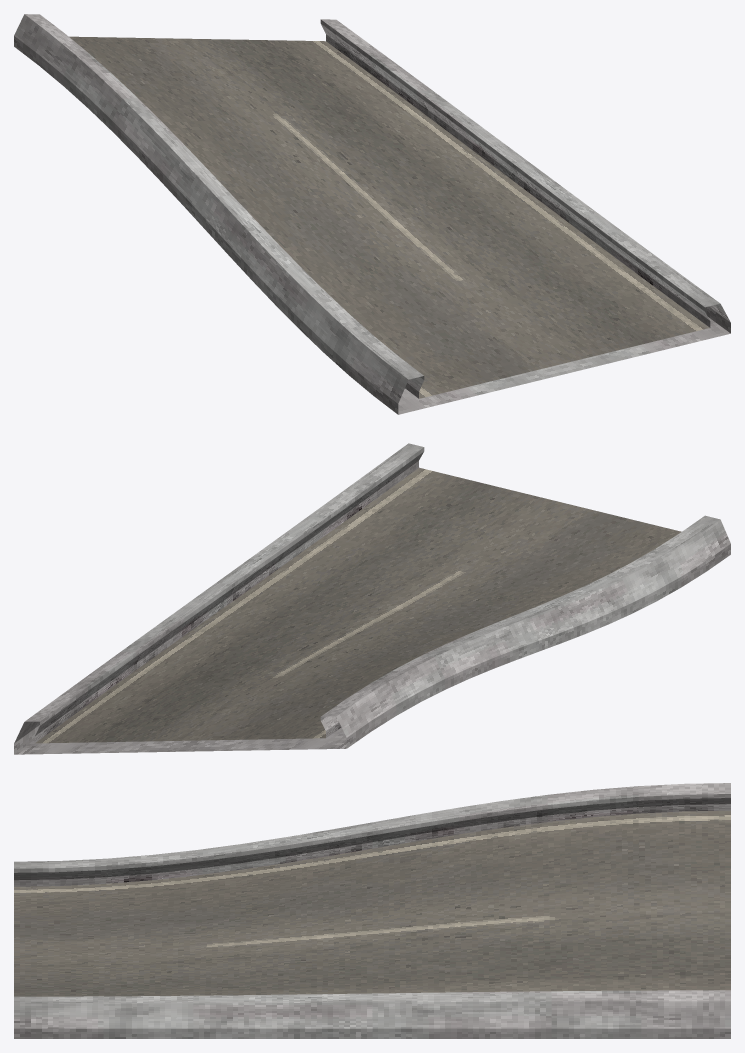
The model's file is road-Straight-Flat-HalfBankedRight-Even-Center-Size2.glb.
3 renders of one model, top to bottom at view 1: azimuth 30°, elevation 25°; view 2: azimuth 150°, elevation 25°; view 3: azimuth 270°, elevation 25°, orthographic. The views are drawn at different scales.
Visible parts, largest first — view 1: road-Straight-Flat-HalfBankedRight-Even-Center-Size2; view 2: road-Straight-Flat-HalfBankedRight-Even-Center-Size2; view 3: road-Straight-Flat-HalfBankedRight-Even-Center-Size2.
Boxes of the visible parts, <box> form: road-Straight-Flat-HalfBankedRight-Even-Center-Size2: <box>14,14,730,414</box>; road-Straight-Flat-HalfBankedRight-Even-Center-Size2: <box>14,443,730,754</box>; road-Straight-Flat-HalfBankedRight-Even-Center-Size2: <box>14,783,730,1038</box>.
Bounding box in the file's own units: 1 × 0.3359 × 2.
Materials: 2 (2 with a texture image).
